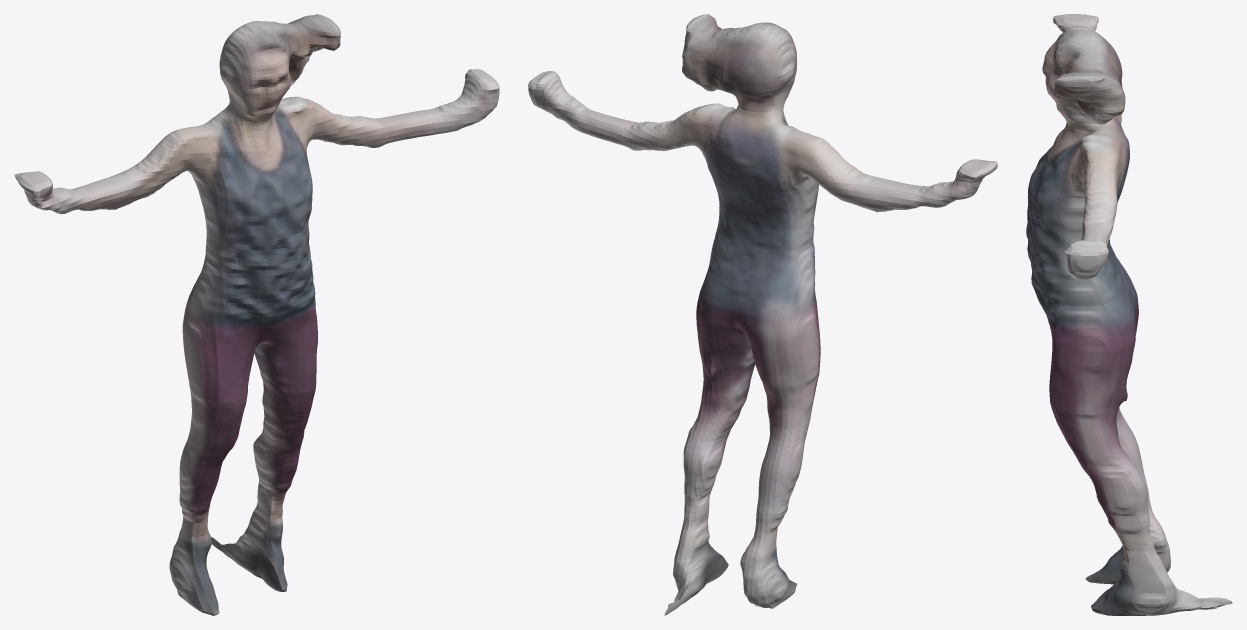
Rendered from 0067_tex.glb.
The picture shows the model from 3 angles, left to right: view 1: azimuth 30°, elevation 25°; view 2: azimuth 150°, elevation 25°; view 3: azimuth 270°, elevation 25°; orthographic projection. The views are drawn at different scales.
Visible parts, largest first — view 1: 0067_tex.obj; view 2: 0067_tex.obj; view 3: 0067_tex.obj.
Boxes of the visible parts, <box> form: 0067_tex.obj: <box>14,14,499,615</box>; 0067_tex.obj: <box>528,14,997,615</box>; 0067_tex.obj: <box>1026,14,1232,615</box>.
Bounding box in the file's own units: 0.7701 × 0.8979 × 0.2965.
